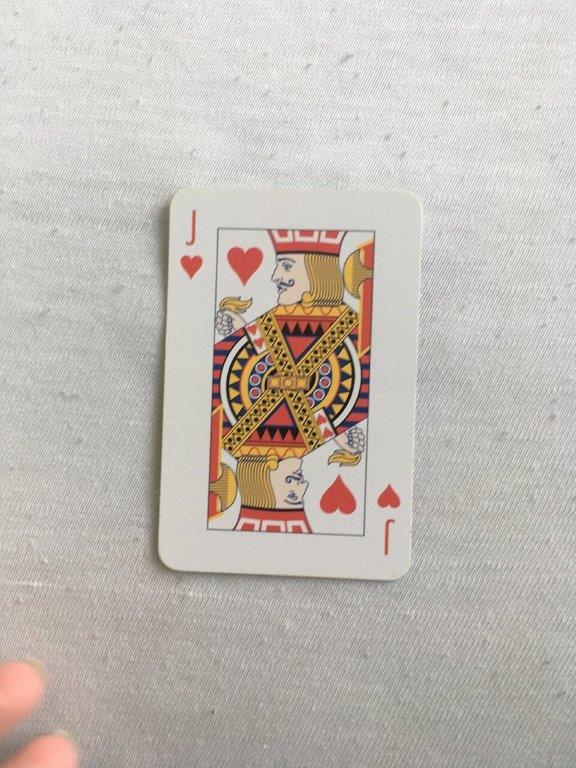JH: (154, 184, 426, 583)
